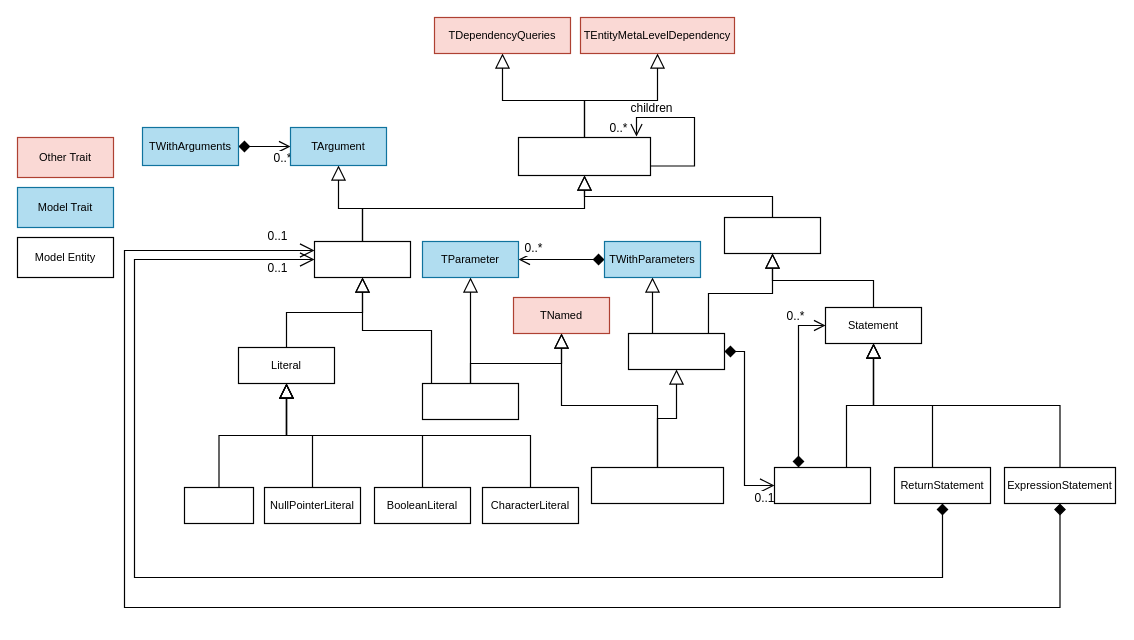
This 1134x640 diagram has some shape labels left out. Here are the shapes that lost their labels. From the top down, the centre of each, then its label:
[584,156]: Entity
[772,235]: ScopableEntity
[362,259]: Expression
[676,351]: BehaviouralEntity
[470,401]: VariableExpression
[218,505]: StringLiteral
[657,485]: NamedBehaviouralEntity
[822,485]: StatementBlock
